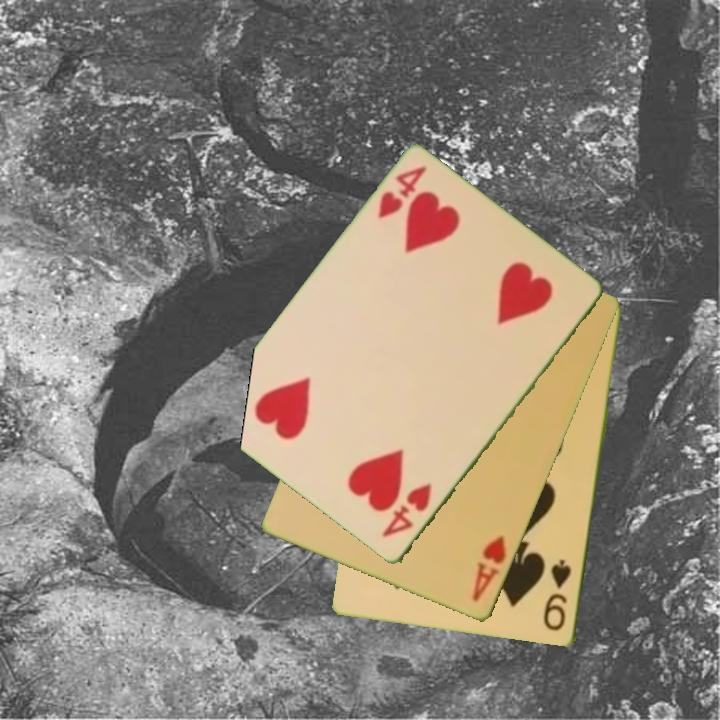4h: (378, 480, 435, 541), (374, 163, 430, 222)
9s: (541, 556, 575, 634)
Ah: (469, 532, 510, 606)
